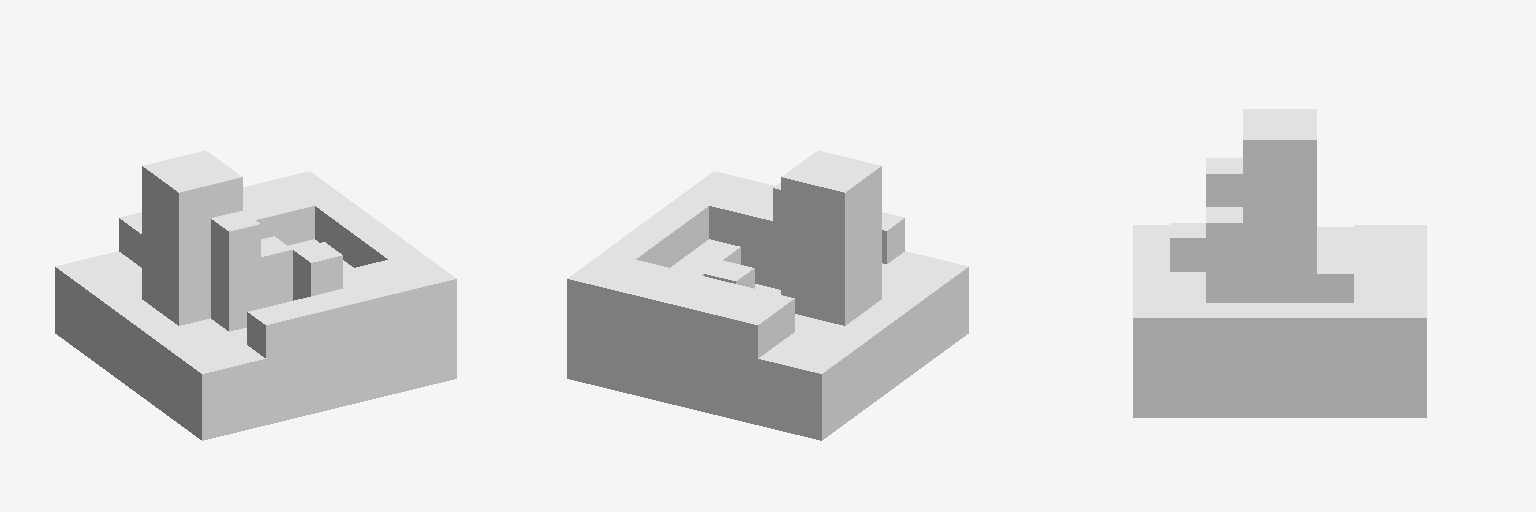
Rendered from Lava7.obj.
The picture shows the model from 3 angles: view 1: azimuth 30°, elevation 25°; view 2: azimuth 150°, elevation 25°; view 3: azimuth 270°, elevation 25°; orthographic projection.
Visible parts, largest first — view 1: object 1; view 2: object 1; view 3: object 1.
Boxes of the visible parts, x1=… form: object 1: x1=55, y1=150, x2=456, y2=440; object 1: x1=567, y1=150, x2=968, y2=440; object 1: x1=1133, y1=109, x2=1426, y2=417.
Bounding box in the file's own units: 0.8 × 0.6 × 0.8.